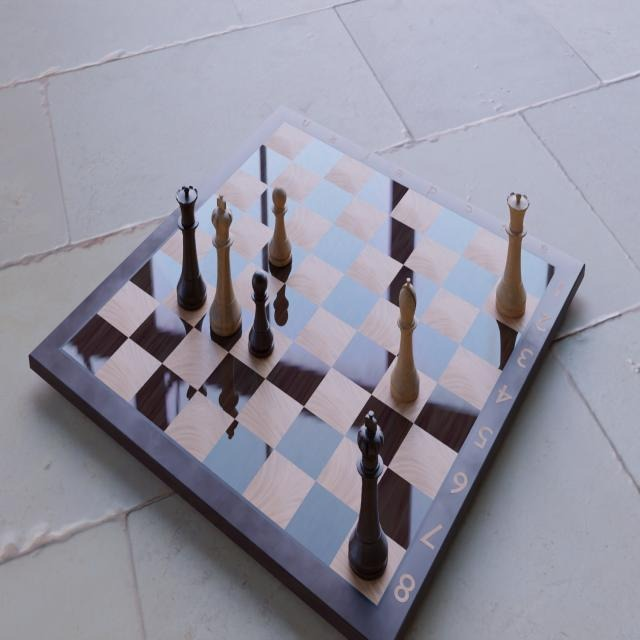black-king: (347, 408, 389, 579)
black-pawn: (248, 269, 276, 359)
black-queen: (174, 183, 207, 313)
white-bishop: (389, 275, 420, 404)
white-king: (209, 192, 243, 339)
white-pawn: (267, 184, 293, 268)
white-queen: (494, 188, 530, 319)
